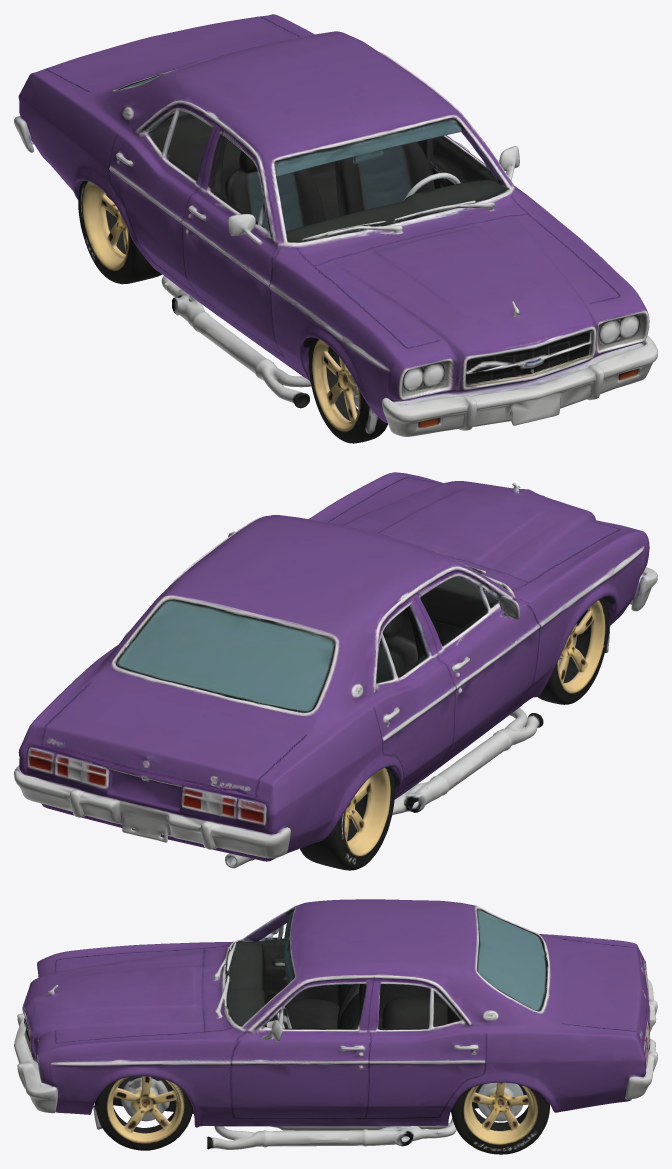
Rendered from 073_lowrider_purple.glb.
3 views of the same model, one above another, from view 1: azimuth 30°, elevation 25°; view 2: azimuth 150°, elevation 25°; view 3: azimuth 270°, elevation 25° (orthographic). The views are drawn at different scales.
Parts seen in each view (by area): view 1: geometry_0; view 2: geometry_0; view 3: geometry_0.
Boxes of the visible parts, x1,y1,x2,y2 form: geometry_0: (14,14,657,443); geometry_0: (14,472,657,870); geometry_0: (14,899,657,1154).
Bounding box in the file's own units: 2.22 × 1.61 × 5.3.
Materials: 1 (1 with a texture image).
